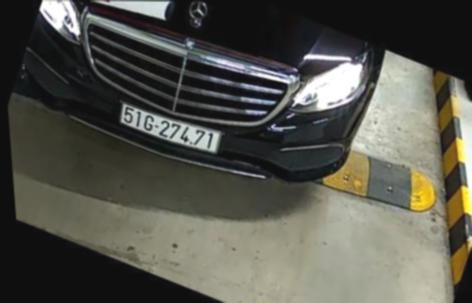License_Plate: (116, 101, 229, 162)
